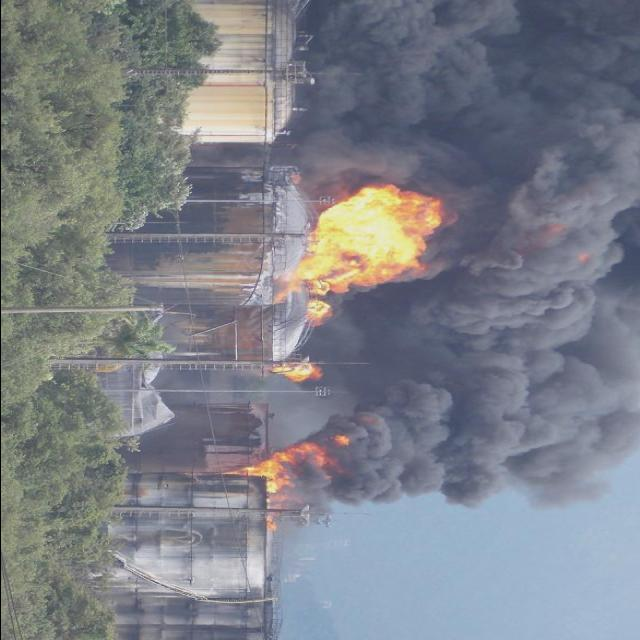Fire: (285, 181, 449, 325), (224, 435, 353, 501), (272, 358, 322, 383), (260, 516, 280, 530)
